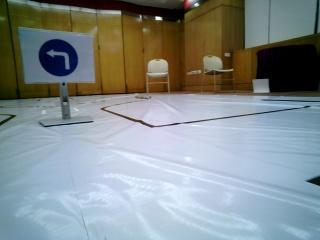left: (19, 25, 95, 85)
